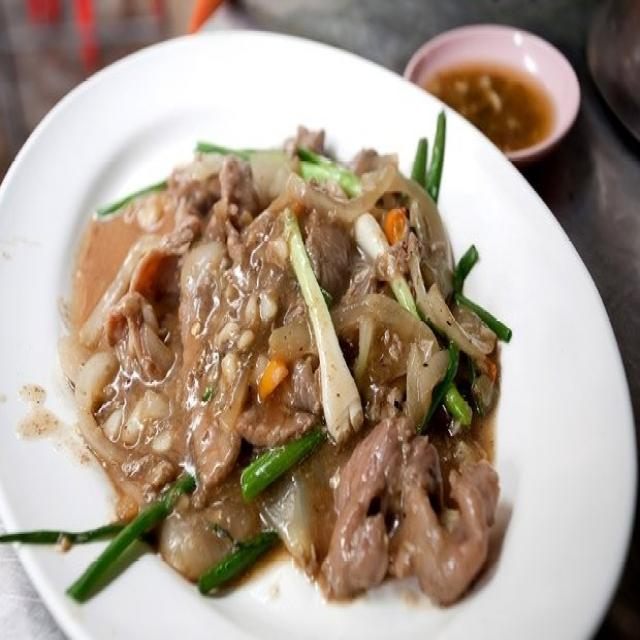牛肉菜式: (22, 44, 579, 611)
